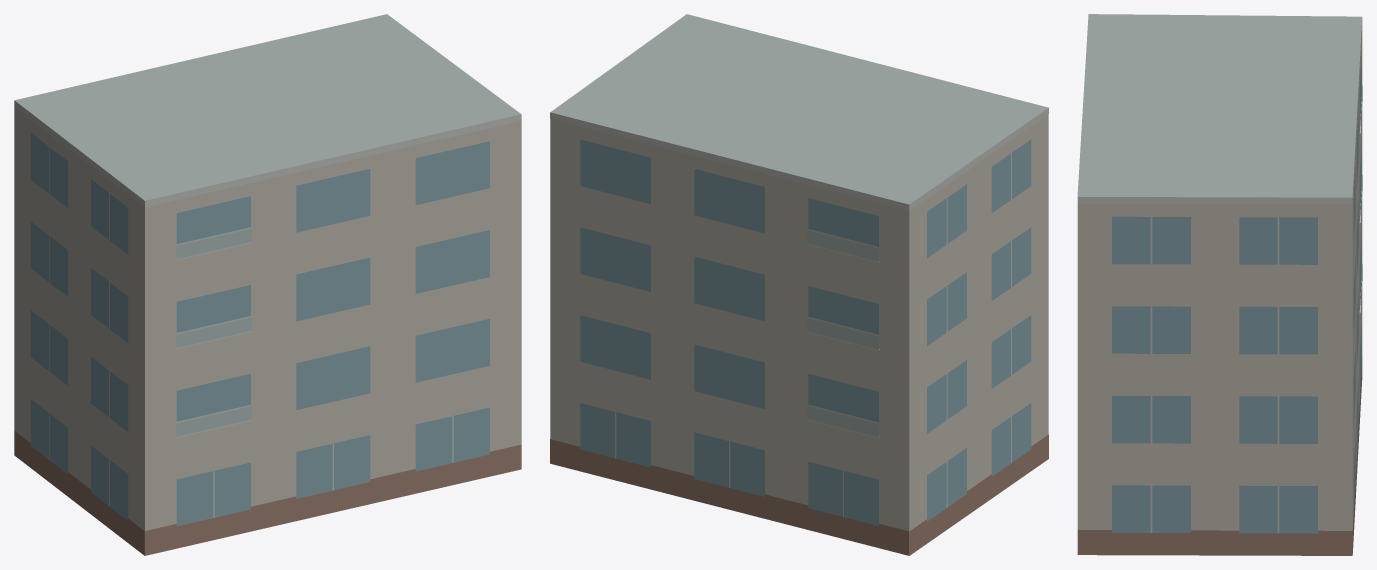
Rendered from survey-upis-32496531.glb.
3 renders of one model, left to right at view 1: azimuth 30°, elevation 25°; view 2: azimuth 150°, elevation 25°; view 3: azimuth 270°, elevation 25°, orthographic.
Visible parts, largest first — view 1: survey-upis-32496531.tmp; view 2: survey-upis-32496531.tmp; view 3: survey-upis-32496531.tmp.
Part boxes in pixels (bbox=[...]): survey-upis-32496531.tmp: bbox=[14, 14, 521, 555]; survey-upis-32496531.tmp: bbox=[550, 14, 1048, 555]; survey-upis-32496531.tmp: bbox=[1077, 14, 1362, 555].
Bounding box in the file's own units: 14.58 × 13.25 × 9.57.
